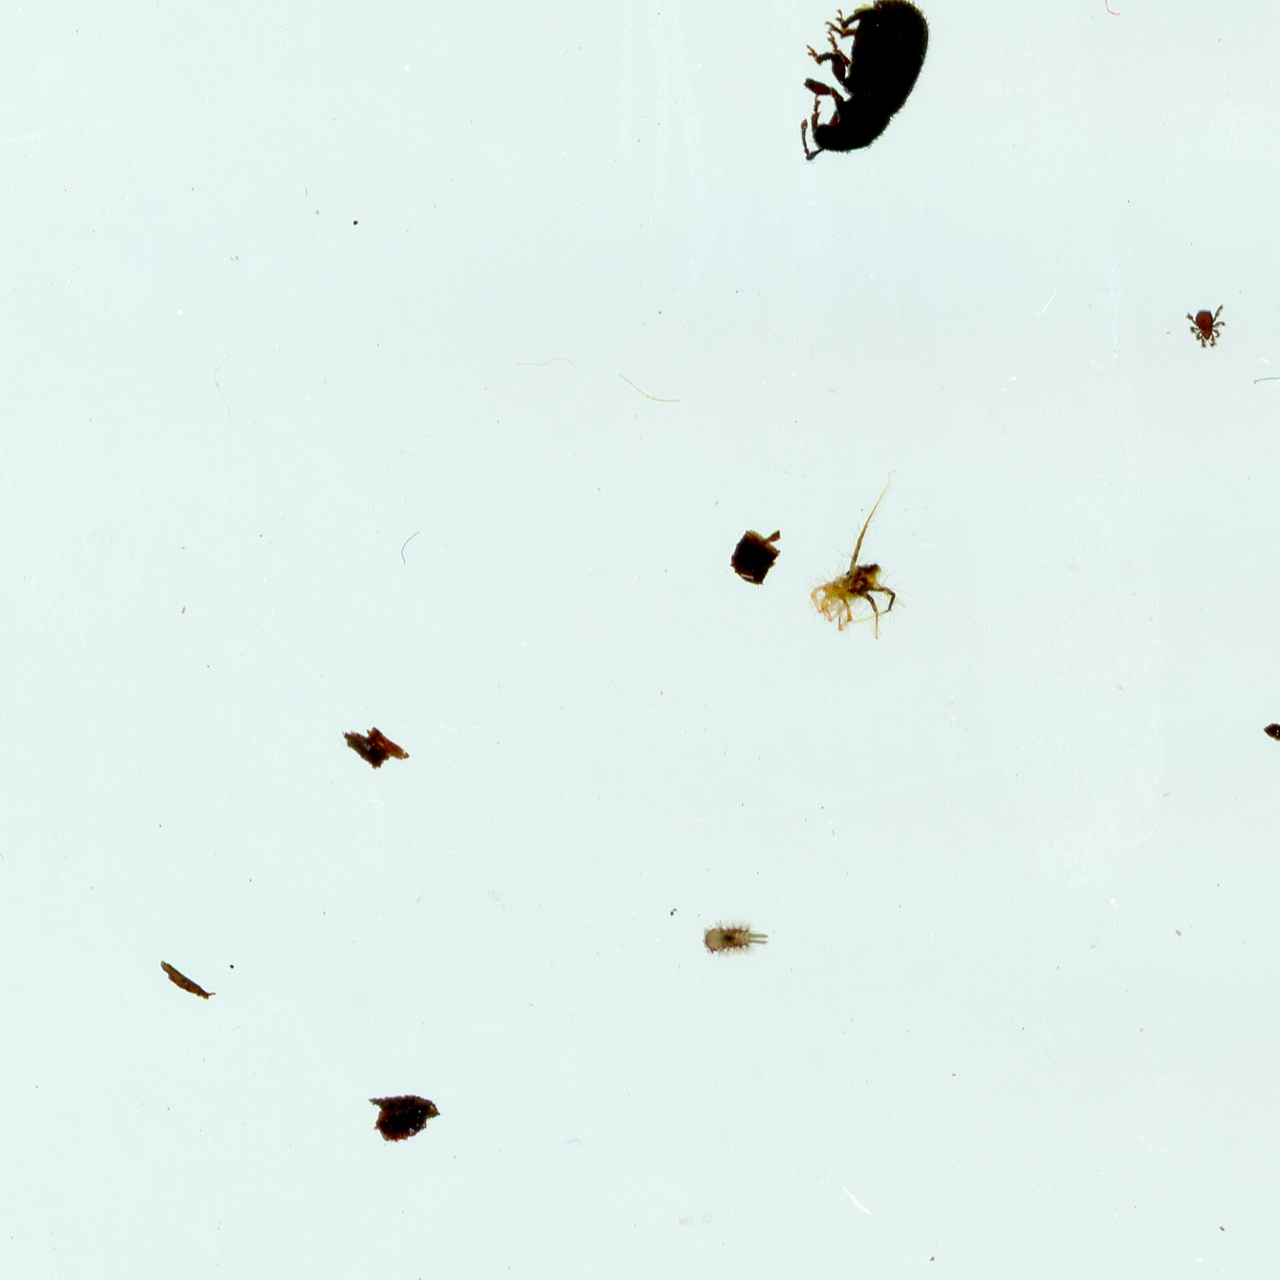arthropod: (755, 0, 954, 198), (800, 467, 921, 647), (698, 917, 773, 963), (1182, 300, 1231, 353)
